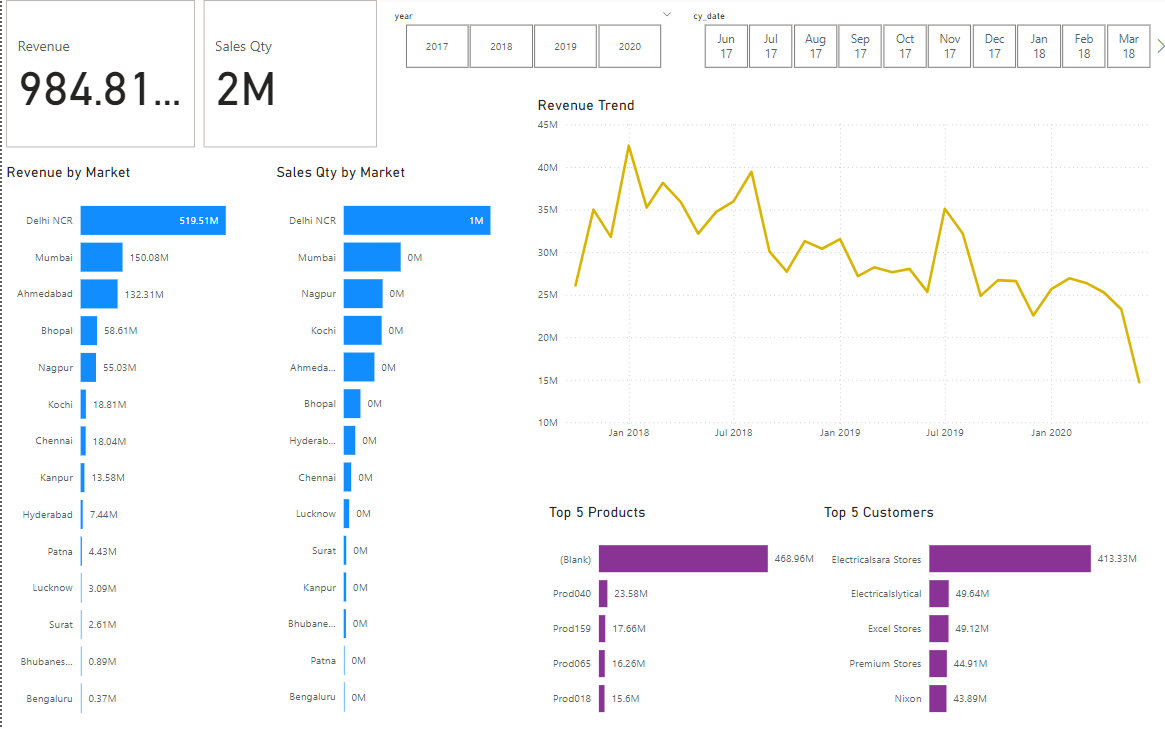

Layout of this report page (visuals, bound fields, positions):
{"tool":"powerbi","page":{"name":"Page 1","canvas":[1350,850],"ordinal":0},"visuals":[{"type":"cardVisual","fields":{"Data":["BaseMeasures.Revenue"]},"box":[0,0,228.1,180.5],"z":0},{"type":"cardVisual","fields":{"Data":["BaseMeasures.Sales Qty"]},"box":[228.1,0,210.8,180.5],"z":1000},{"type":"barChart","title":"Revenue by Market","fields":{"Y":["BaseMeasures.Revenue"],"Category":["sales markets.markets_name"]},"box":[0,193.4,311.8,656.8],"z":2000},{"type":"barChart","title":"Sales Qty by Market","fields":{"Y":["BaseMeasures.Sales Qty"],"Category":["sales markets.markets_name"]},"box":[311.8,193.4,280.1,655.4],"z":3000},{"type":"slicer","fields":{"Values":["sales date.year"]},"box":[440.3,11.5,345,78],"z":4000},{"type":"slicer","fields":{"Values":["sales date.cy_date"]},"box":[785.3,11.5,564.5,78],"z":5000},{"type":"barChart","title":"Top 5 Customers","fields":{"Y":["BaseMeasures.Revenue"],"Category":["sales customers.custmer_name"]},"box":[943.6,586.1,377.7,263.4],"z":6000},{"type":"barChart","title":"Top 5 Products","fields":{"Y":["BaseMeasures.Revenue"],"Category":["sales products.product_code"]},"box":[626.7,586.1,317,263.4],"z":7000},{"type":"lineChart","title":"Revenue Trend","fields":{"Y":["BaseMeasures.Revenue"],"Category":["sales date.cy_date.Variation.Date Hierarchy.Year","sales date.cy_date.Variation.Date Hierarchy.Quarter","sales date.cy_date.Variation.Date Hierarchy.Month","sales date.cy_date.Variation.Date Hierarchy.Day"]},"box":[613.5,115.5,729,407.1],"z":8000}]}

Visuals, with their boxes in screenshot pixels (x1, y1, x2, y2), scaled from the page's 1350x850 canvas onto the 1165x729 screenshot:
cardVisual - BaseMeasures.Revenue: l=0, t=0, r=197, b=155
cardVisual - BaseMeasures.Sales Qty: l=197, t=0, r=379, b=155
"Revenue by Market" barChart: l=0, t=166, r=269, b=728
"Sales Qty by Market" barChart: l=269, t=166, r=511, b=728
slicer - sales date.year: l=380, t=10, r=678, b=77
slicer - sales date.cy_date: l=678, t=10, r=1164, b=77
"Top 5 Customers" barChart: l=814, t=503, r=1140, b=728
"Top 5 Products" barChart: l=541, t=503, r=814, b=728
"Revenue Trend" lineChart: l=529, t=99, r=1159, b=448
